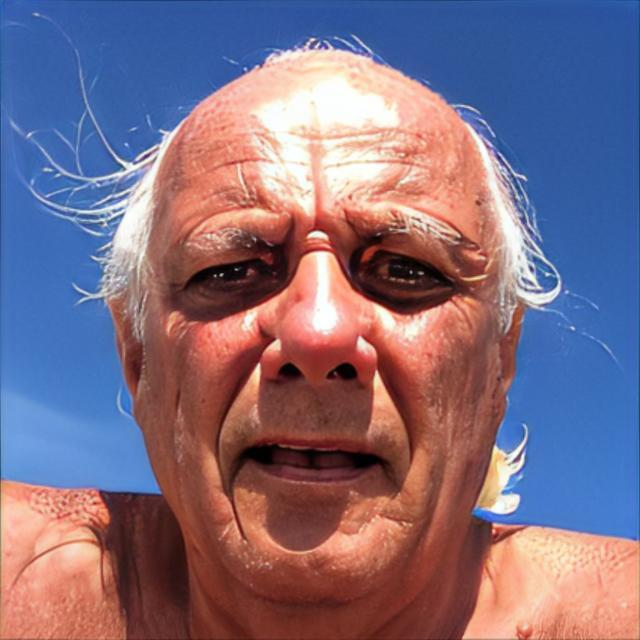disgust: (139, 87, 501, 607)
